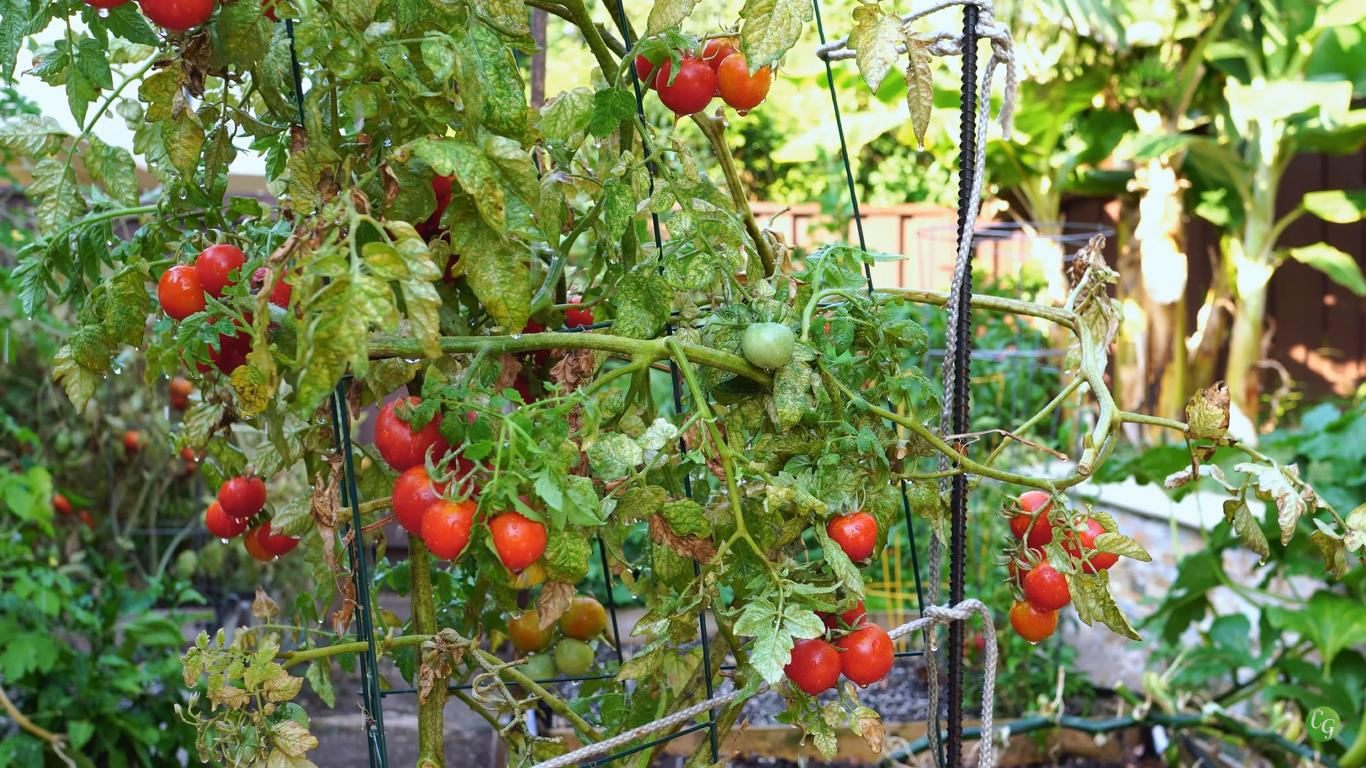Spider Mites: (296, 254, 400, 422), (438, 187, 548, 336), (412, 139, 509, 243), (138, 67, 206, 182), (463, 23, 528, 141), (1232, 459, 1310, 548), (393, 237, 443, 361), (737, 0, 814, 79), (846, 3, 908, 97), (1065, 567, 1142, 642), (22, 155, 88, 232), (287, 121, 338, 214), (815, 518, 868, 603), (611, 269, 675, 339), (218, 0, 274, 76), (773, 341, 817, 432), (96, 281, 151, 350), (905, 31, 937, 149), (83, 142, 140, 207), (229, 344, 278, 419), (51, 343, 101, 416), (630, 595, 701, 646), (537, 86, 594, 149), (537, 169, 577, 258), (860, 483, 903, 562), (1223, 497, 1272, 564), (601, 177, 638, 263), (0, 112, 68, 156), (585, 431, 645, 480), (1184, 380, 1230, 441), (544, 529, 593, 586), (705, 325, 744, 395), (612, 634, 664, 685), (749, 628, 794, 686), (591, 87, 637, 140), (290, 10, 336, 63), (69, 323, 111, 380), (469, 0, 532, 38), (662, 495, 714, 541), (185, 401, 224, 462), (754, 431, 823, 464), (645, 0, 704, 37), (362, 242, 412, 283), (230, 107, 288, 142), (615, 484, 666, 523), (1093, 531, 1154, 563), (272, 719, 320, 758), (848, 706, 886, 755), (733, 596, 777, 638), (803, 710, 839, 761), (652, 538, 687, 587), (782, 604, 827, 641), (906, 480, 942, 522), (421, 38, 456, 80), (341, 81, 379, 119), (767, 514, 806, 550), (262, 674, 305, 703), (1044, 537, 1076, 575), (684, 252, 714, 291), (423, 95, 461, 124), (665, 208, 699, 240), (439, 409, 464, 447), (409, 399, 435, 433), (649, 181, 674, 213), (601, 387, 626, 419)
